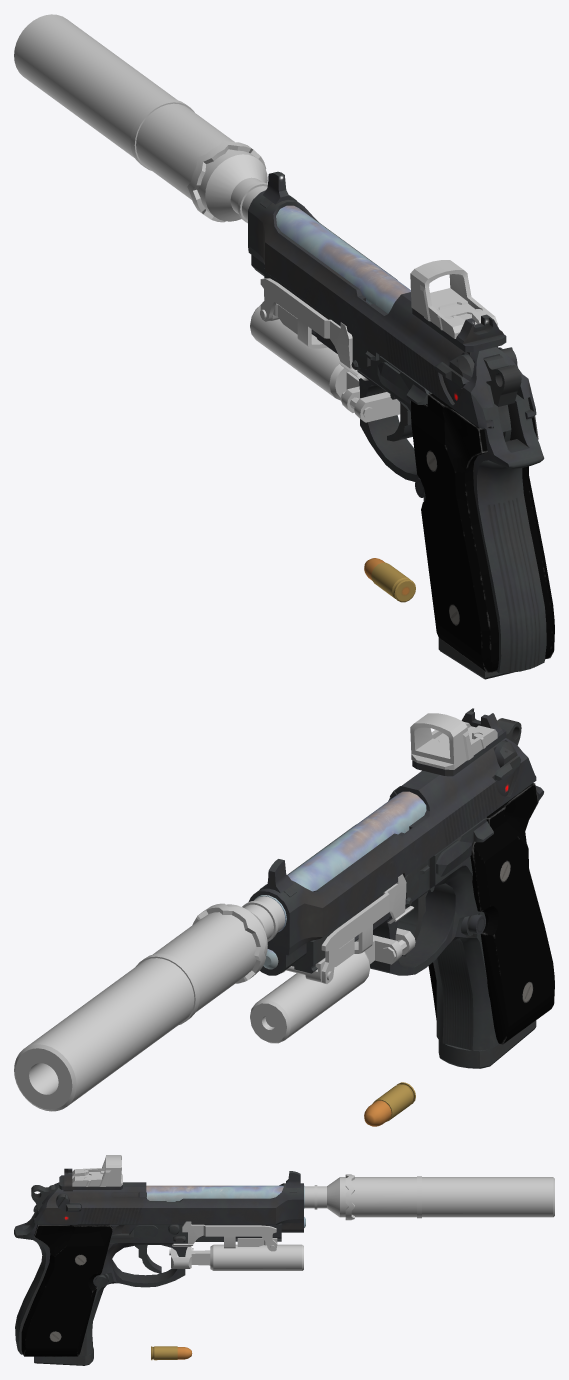
The model's file is 92FS_Finish.fbx.
The picture shows the model from 3 angles, top to bottom: view 1: azimuth 30°, elevation 25°; view 2: azimuth 150°, elevation 25°; view 3: azimuth 270°, elevation 25°; orthographic projection. The views are drawn at different scales.
Visible parts, largest first — view 1: Suppressor_low, Grip_low, Frame_low, Slide_low, Laser Sight_low, Barrel_low, Red dot_low, Slide Lock_low, Hammer_low, Rear sight_low, Slide catch_low, Catridge_low (+1 smaller); view 2: Suppressor_low, Slide_low, Grip_low, Frame_low, Laser Sight_low, Barrel_low, Red dot_low, Slide Lock_low, Mag bottom_low, Slide catch_low, Rear sight_low, Catridge_low (+5 smaller); view 3: Suppressor_low, Slide_low, Grip_low, Frame_low, Laser Sight_low, Barrel_low, Slide Lock_low, Red dot_low, Mag bottom_low, Trigger rod_low, Rear sight_low, Catridge_low (+3 smaller).
Part boxes in pixels (x1,y1,x2,y2): Suppressor_low: (14,14,267,223); Grip_low: (410,393,554,673); Frame_low: (264,268,546,673); Slide_low: (248,190,536,429); Laser Sight_low: (250,305,400,422); Barrel_low: (276,205,410,313); Red dot_low: (410,260,497,338); Slide Lock_low: (260,278,368,380); Hammer_low: (483,355,521,441); Rear sight_low: (412,308,506,354); Slide catch_low: (377,362,429,404); Catridge_low: (371,562,415,602); Suppressor_low: (14,896,285,1111); Slide_low: (248,738,536,975); Grip_low: (428,783,554,1044); Frame_low: (292,786,543,1050); Laser Sight_low: (250,928,415,1043); Barrel_low: (254,791,426,931); Red dot_low: (410,713,497,769); Slide Lock_low: (282,874,413,983); Mag bottom_low: (438,1020,536,1068); Slide catch_low: (436,819,493,876); Rear sight_low: (412,708,506,776); Catridge_low: (372,1082,415,1121); Suppressor_low: (304,1174,554,1220); Slide_low: (33,1182,303,1232); Grip_low: (21,1224,112,1356); Frame_low: (14,1207,281,1356); Laser Sight_low: (169,1244,303,1270); Barrel_low: (146,1185,304,1208); Slide Lock_low: (172,1221,277,1251); Red dot_low: (72,1155,122,1186); Mag bottom_low: (34,1347,93,1365); Trigger rod_low: (109,1225,157,1242); Rear sight_low: (59,1168,122,1191); Catridge_low: (151,1346,177,1360).
Bounding box in the file's own units: 3.48 × 15.97 × 38.93.
